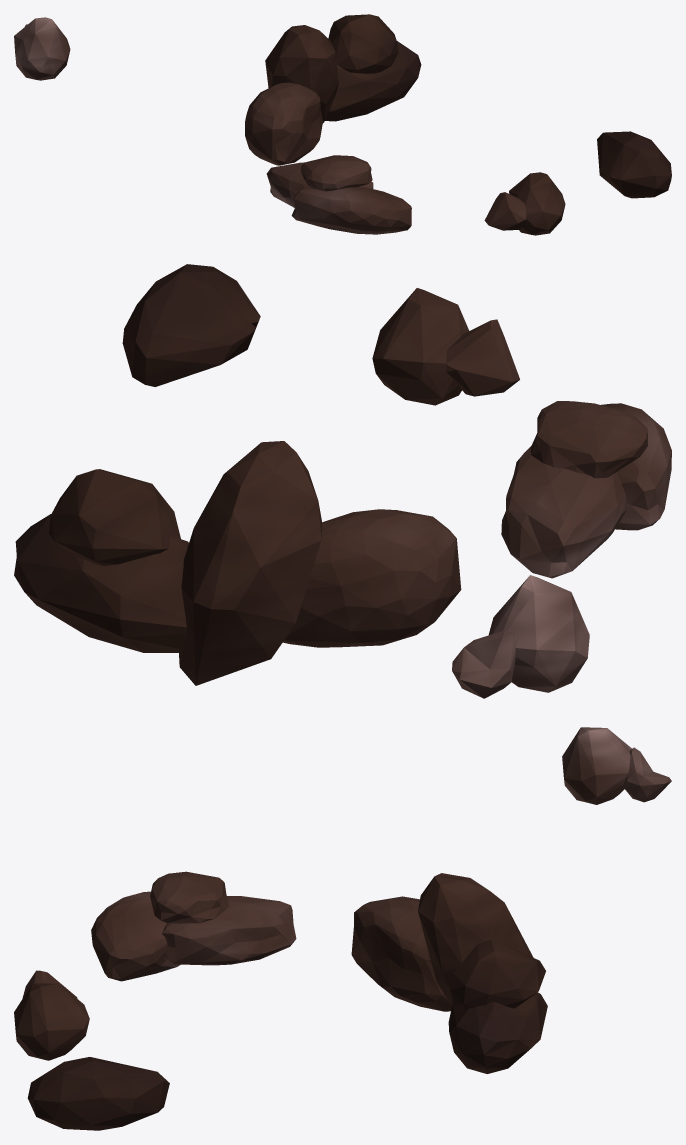
Rendered from Rocks.obj.
3 views of the same model, one above another, from view 1: azimuth 30°, elevation 25°; view 2: azimuth 150°, elevation 25°; view 3: azimuth 270°, elevation 25° (orthographic). The views are drawn at different scales.
Parts seen in each view (by area): view 1: Cube.032_Cube.054; view 2: Cube.032_Cube.054; view 3: Cube.032_Cube.054.
Boxes of the visible parts, <box> form: Cube.032_Cube.054: <box>14,14,671,235</box>; Cube.032_Cube.054: <box>14,264,671,698</box>; Cube.032_Cube.054: <box>14,727,671,1130</box>.
Bounding box in the file's own units: 25.34 × 7.77 × 25.64.
Materials: 1 (1 with a texture image).
